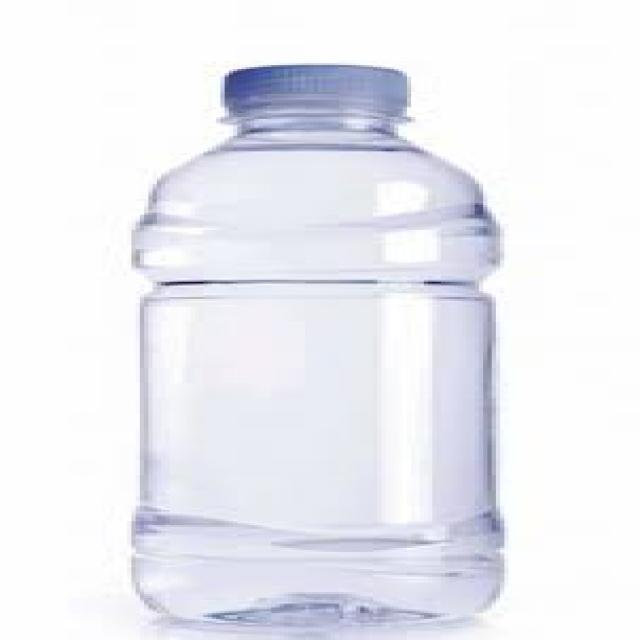Plastic: (125, 61, 503, 630)
